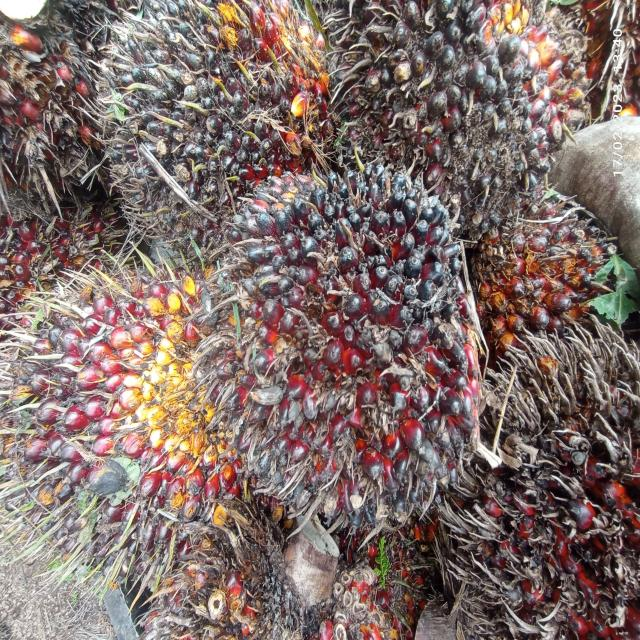fraksi 00: (68, 0, 351, 239), (361, 0, 586, 207)
fraksi 1: (191, 156, 500, 519), (0, 235, 258, 578)
